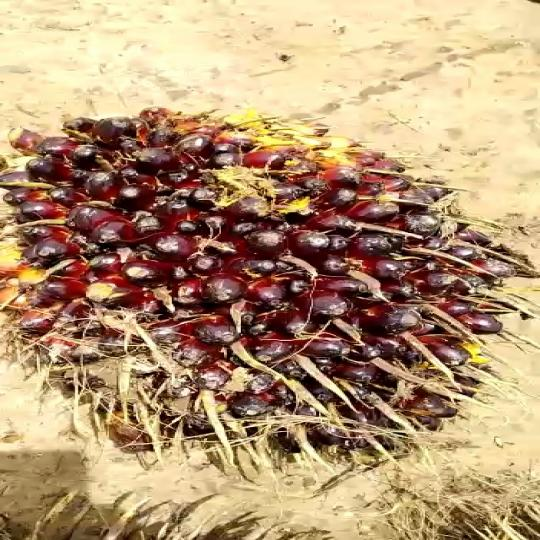mentah: (1, 103, 506, 470)
